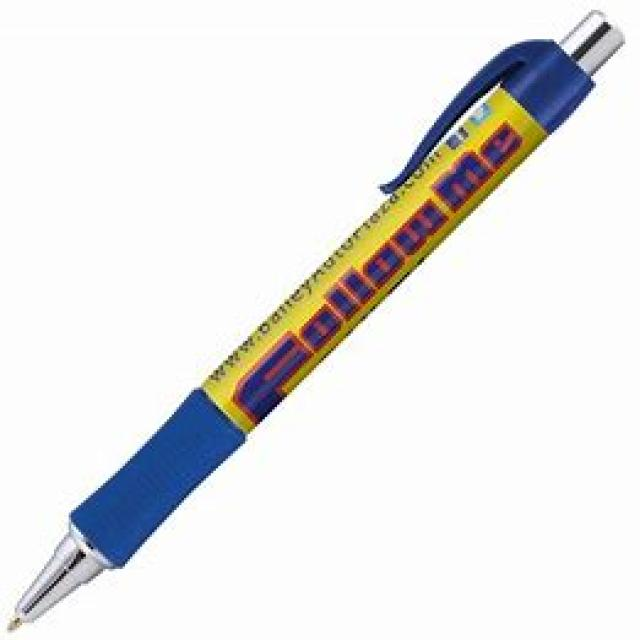pen: (7, 10, 624, 635)
